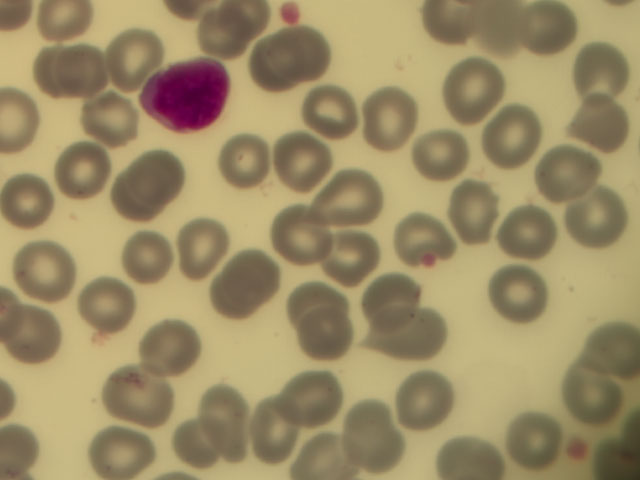Platelets: (561, 431, 597, 467)
RBC: (45, 44, 108, 98), (96, 426, 159, 480), (435, 426, 498, 480), (102, 28, 165, 81), (79, 93, 142, 146), (51, 142, 114, 195), (6, 178, 69, 231), (126, 145, 189, 198), (105, 174, 168, 227), (112, 230, 175, 283), (82, 278, 145, 331), (17, 242, 80, 295), (3, 309, 66, 362), (104, 370, 167, 423), (144, 321, 207, 374), (221, 256, 284, 309), (172, 214, 235, 267), (207, 137, 270, 190), (261, 128, 324, 181), (305, 85, 368, 138), (363, 94, 426, 147), (272, 28, 335, 81), (240, 40, 303, 93), (184, 9, 247, 62), (438, 62, 501, 115), (468, 2, 531, 55), (569, 42, 632, 95), (577, 105, 640, 158), (489, 110, 552, 163), (538, 146, 601, 199), (571, 195, 634, 248), (499, 202, 562, 255), (448, 183, 511, 236), (411, 131, 474, 184), (396, 214, 459, 267), (493, 269, 556, 322), (382, 303, 445, 356), (359, 272, 422, 325), (320, 233, 383, 286), (275, 207, 338, 260), (318, 169, 381, 222), (295, 311, 358, 364), (291, 278, 354, 331), (286, 368, 349, 421), (253, 401, 316, 454), (203, 388, 266, 441), (176, 412, 239, 465), (396, 373, 459, 426), (341, 402, 404, 455), (502, 411, 565, 464), (565, 358, 628, 411), (577, 325, 640, 378), (34, 1, 97, 53), (418, 1, 481, 53), (514, 1, 577, 53), (1, 418, 45, 477)
WBC: (140, 53, 231, 137), (277, 1, 305, 26)
